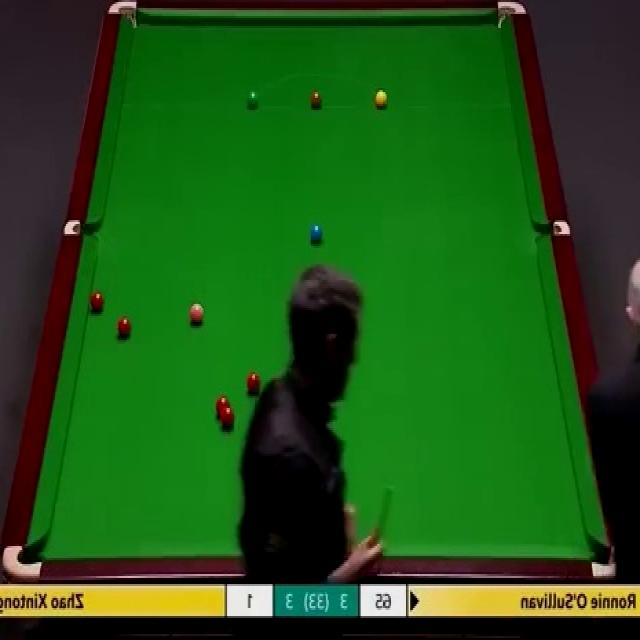pocket: (3, 540, 43, 583), (590, 540, 616, 582), (497, 0, 527, 28), (109, 0, 139, 28), (533, 220, 571, 237), (66, 220, 100, 235)
